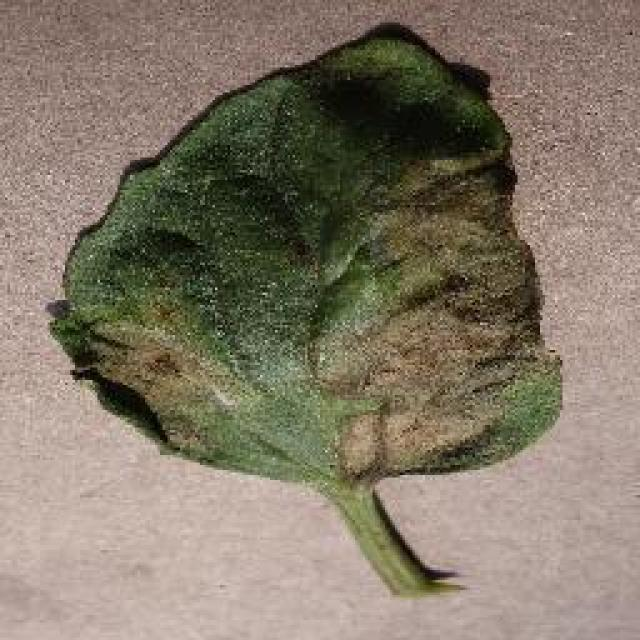Tomato Late Blight: (48, 187, 560, 480)
